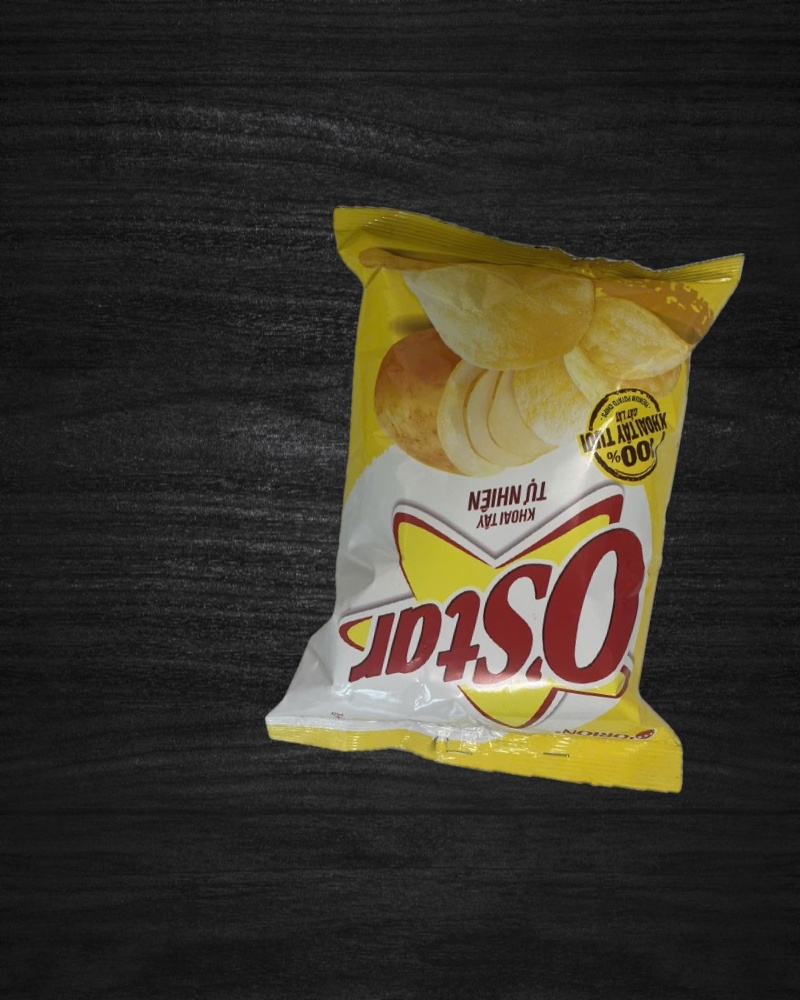Snack cua: (248, 190, 772, 805)
